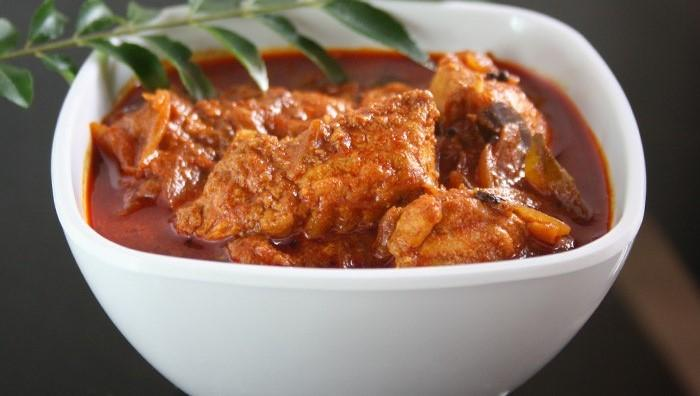FishCurry: (84, 47, 614, 271)
